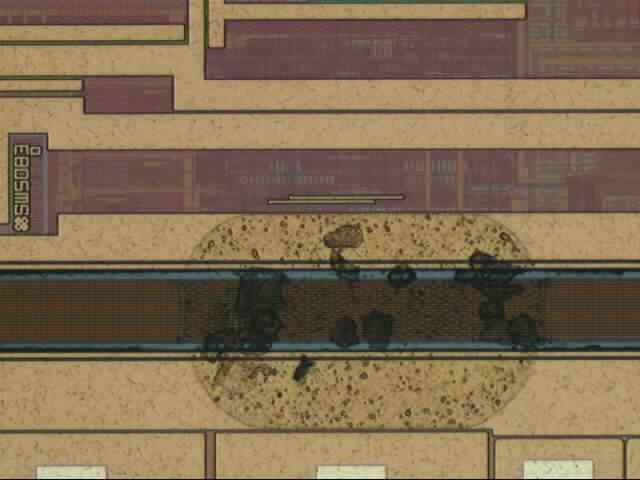PO CONTAMINATION: (177, 197, 549, 436)
